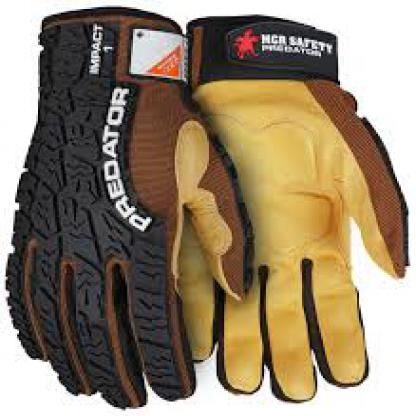with_gloves: (4, 4, 256, 410), (171, 15, 412, 405)
